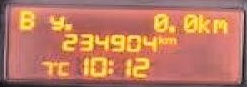-: (63, 21, 72, 30), (167, 24, 175, 33)
0: (150, 11, 167, 31), (89, 55, 105, 76), (125, 32, 140, 51), (182, 12, 195, 31)
1: (124, 56, 130, 76), (82, 56, 87, 76)
2: (132, 56, 148, 76), (62, 31, 75, 50)
3: (77, 31, 92, 51)
4: (92, 32, 107, 50), (142, 34, 155, 53)
7: (40, 60, 52, 74)
9: (109, 31, 124, 51)
X: (15, 9, 34, 29), (49, 14, 64, 31), (210, 16, 225, 32), (197, 13, 208, 33), (57, 60, 68, 75), (105, 57, 114, 72), (155, 33, 164, 44), (164, 35, 175, 44)
